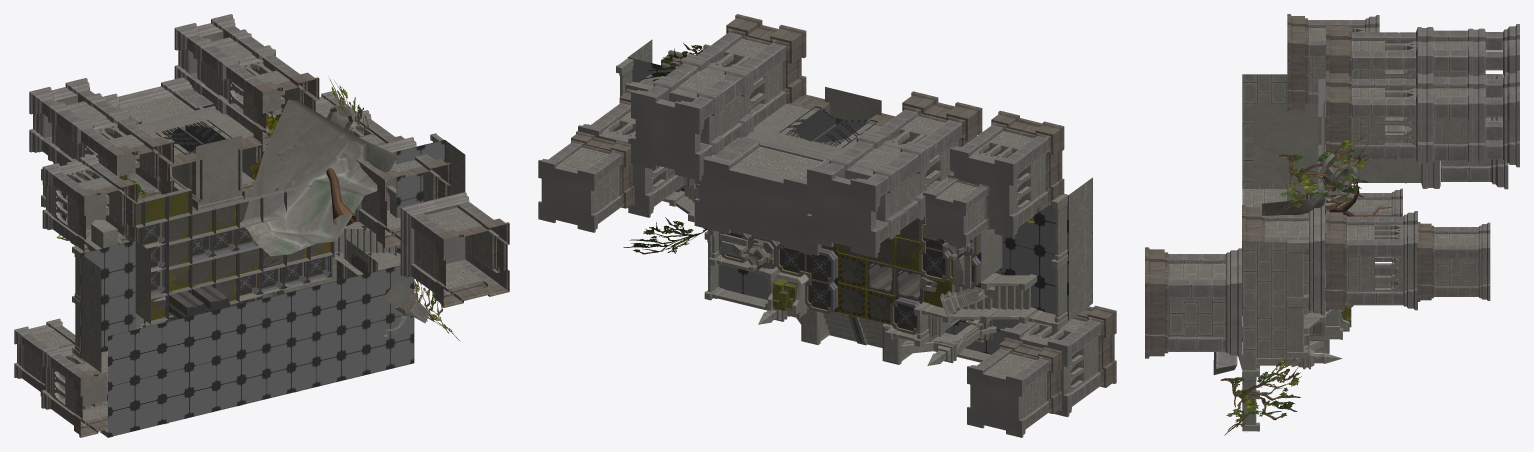
Rendered from BATTLE.fbx.
The picture shows the model from 3 angles, left to right: view 1: azimuth 30°, elevation 25°; view 2: azimuth 150°, elevation 25°; view 3: azimuth 270°, elevation 25°; orthographic projection. The views are drawn at different scales.
Visible parts, largest first — view 1: S_Outworld_outside_23, S_playground, S_Outworld_outside_21, S_Outworld_building_87, S_Outworld_building_88, S_Outworld_building_84, S_Outworld_building_80, S_Outworld_building_89, S_Outworld_wall02_33, S_Outworld_building_83, S_Outworld_building_79, S_Outworld_building_86 (+14 smaller); view 2: S_Outworld_building_87, S_Outworld_building_84, S_Outworld_building_86, S_Outworld_building_80, S_playground, S_Outworld_building_78, S_Outworld_building_82, S_Outworld_outside_23, S_Outworld_building_83, S_Outworld_building_89, S_Outworld_wall02_33, S_Outworld_building_81 (+18 smaller); view 3: S_Outworld_building_87, S_Outworld_wall02_33, S_Outworld_building_88, S_Outworld_building_84, S_Outworld_building_77, S_Outworld_building_78, S_Outworld_zhiwu_22, S_Outworld_building_79, S_Outworld_building_80, S_Outworld_building_89, S_Outworld_building_86, S_Outworld_building_82 (+9 smaller).
Boxes of the visible parts, x1,y1,x2,y2 form: S_Outworld_outside_23: (80,140,444,437); S_playground: (135,185,334,325); S_Outworld_outside_21: (239,99,397,256); S_Outworld_building_87: (174,14,319,151); S_Outworld_building_88: (400,192,509,307); S_Outworld_building_84: (29,78,173,200); S_Outworld_building_80: (42,154,137,253); S_Outworld_building_89: (137,106,268,211); S_Outworld_wall02_33: (81,140,465,372); S_Outworld_building_83: (41,344,107,437); S_Outworld_building_79: (353,137,450,248); S_Outworld_building_86: (103,77,213,124); S_Outworld_building_87: (631,14,806,180); S_Outworld_building_84: (807,91,982,257); S_Outworld_building_86: (694,137,829,255); S_Outworld_building_80: (950,110,1064,238); S_playground: (719,216,982,334); S_Outworld_building_78: (538,131,634,232); S_Outworld_building_82: (967,337,1061,437); S_Outworld_outside_23: (627,57,1068,354); S_Outworld_building_83: (1000,305,1116,417); S_Outworld_building_89: (741,87,894,161); S_Outworld_wall02_33: (628,39,1092,320); S_Outworld_building_81: (923,171,991,247); S_Outworld_building_87: (1326,70,1519,167); S_Outworld_wall02_33: (1242,74,1318,357); S_Outworld_building_88: (1145,247,1241,358); S_Outworld_building_84: (1326,24,1519,79); S_Outworld_building_77: (1325,210,1417,311); S_Outworld_building_78: (1417,222,1490,301); S_Outworld_zhiwu_22: (1220,134,1399,435); S_Outworld_building_79: (1242,205,1324,315); S_Outworld_building_80: (1287,14,1379,111); S_Outworld_building_89: (1349,158,1440,188); S_Outworld_building_86: (1441,72,1508,189); S_Outworld_building_82: (1340,188,1402,262).
Size of what is drawn, in the model's own units: 0.1636 by 0.1097 by 0.1245.
